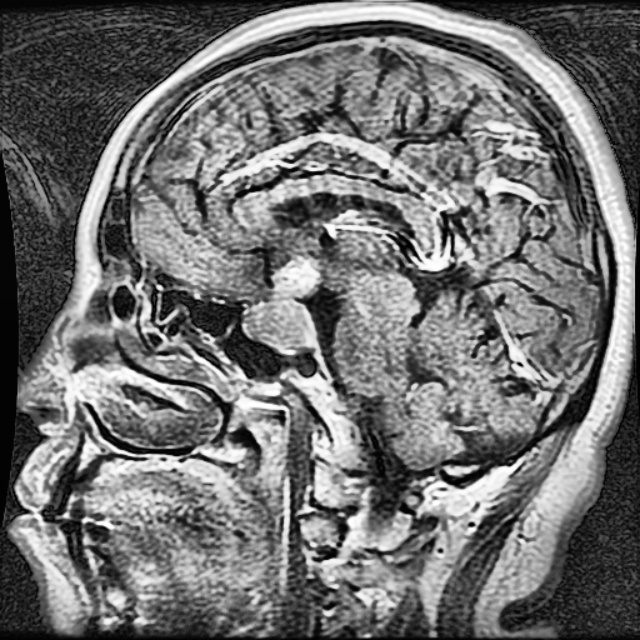Pituitary: (243, 258, 319, 354)
